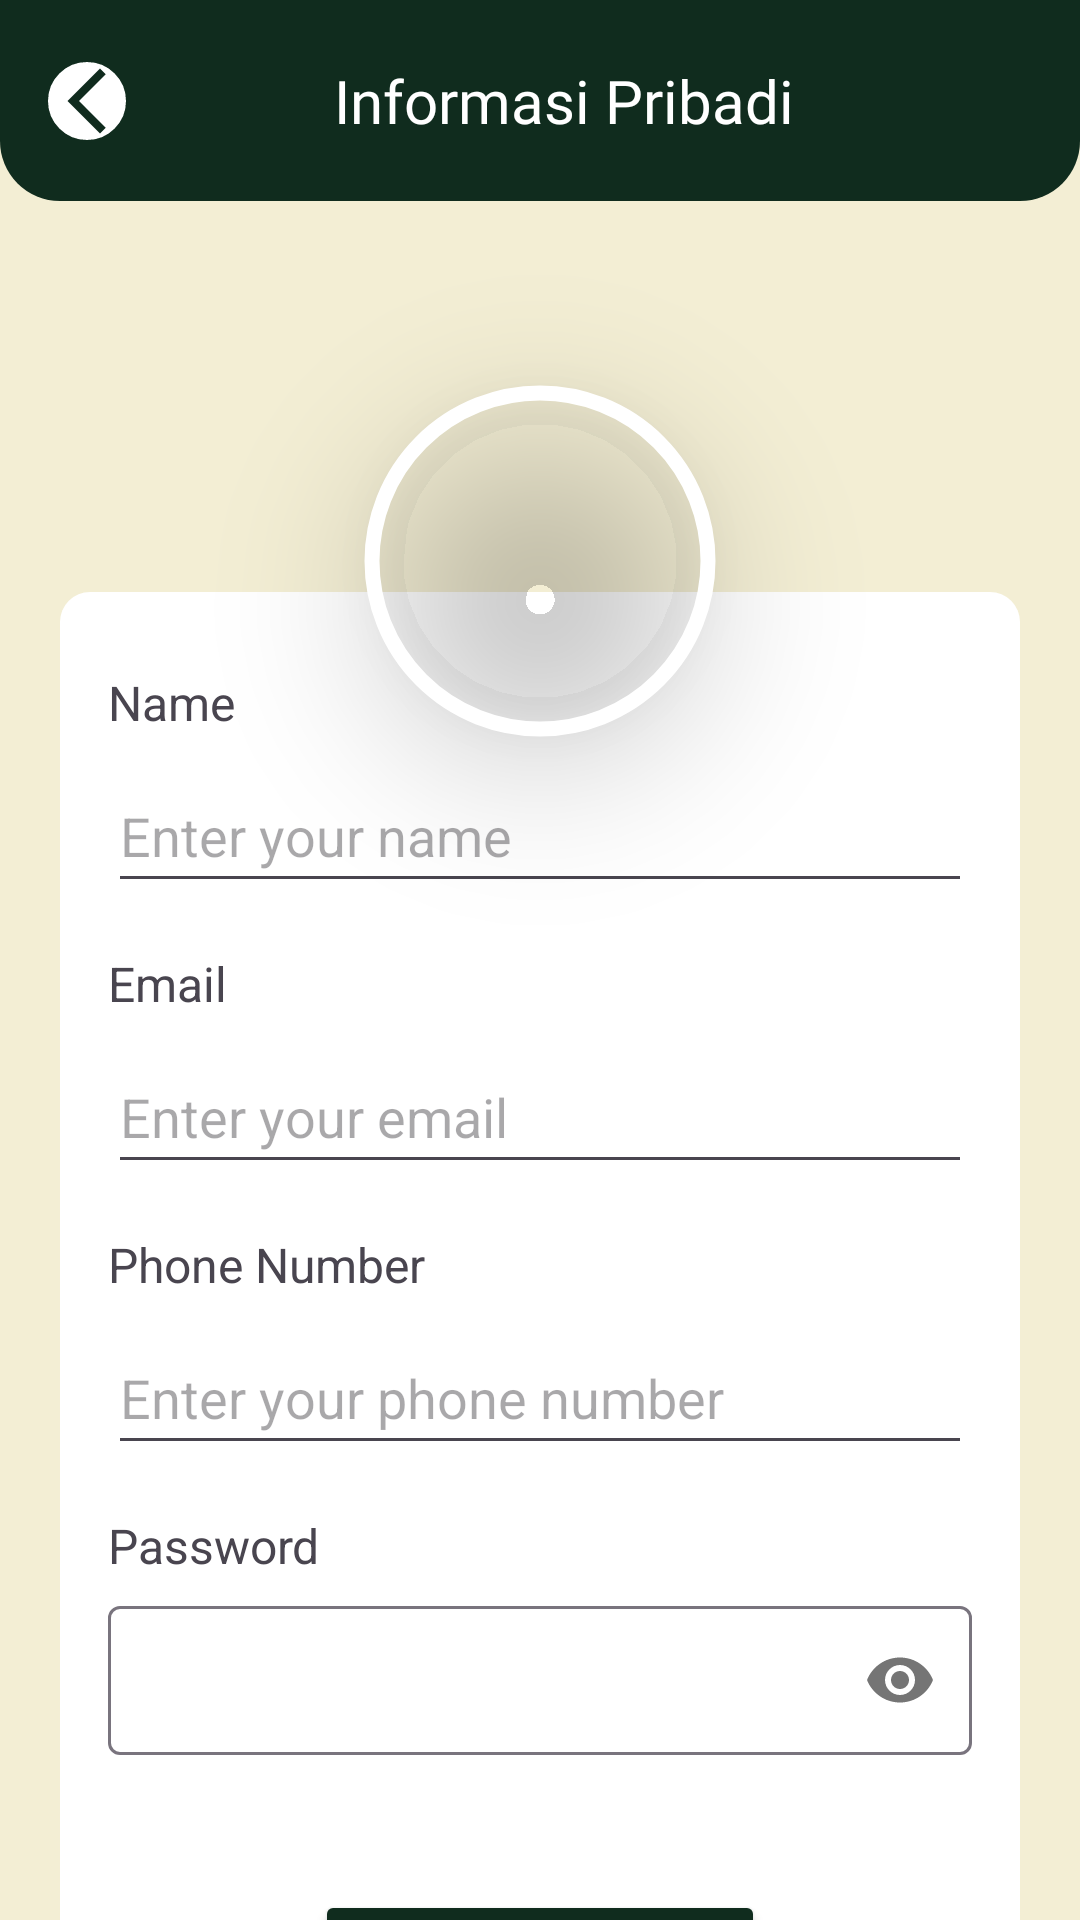

Where icons sit on this 1080 × 1920 app screen, as (x1, y1, x2, y2):
Back button: (48, 62, 126, 140)
